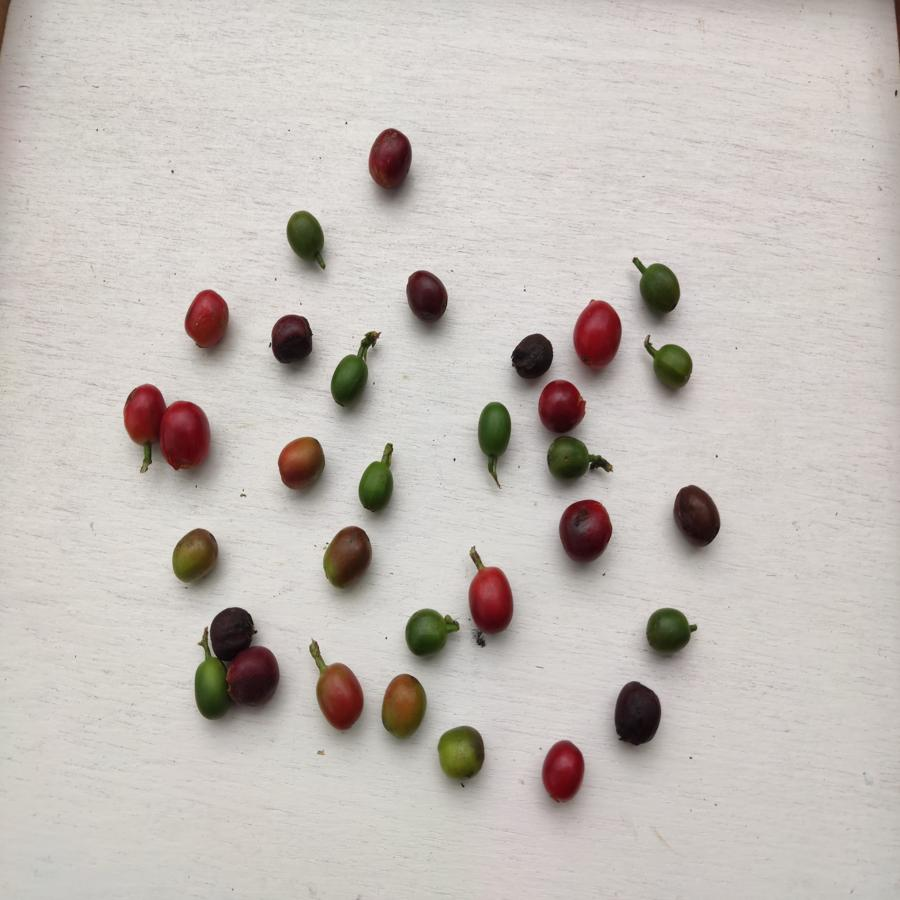Inmaduro: (435, 724, 488, 781), (634, 260, 682, 314), (402, 606, 450, 659), (646, 602, 692, 657), (285, 208, 329, 265), (329, 349, 369, 410), (192, 657, 231, 719), (651, 339, 694, 394), (356, 458, 396, 516), (545, 434, 590, 483), (477, 399, 512, 459)
Maduro: (312, 661, 369, 732), (574, 298, 625, 372), (161, 401, 211, 472), (540, 733, 587, 807), (467, 564, 516, 634), (181, 285, 233, 350), (120, 382, 165, 453), (536, 378, 589, 432)
Pinton: (379, 670, 429, 741), (322, 523, 375, 589), (171, 525, 221, 589), (275, 434, 329, 491)
Sobremaduro: (556, 497, 614, 563), (225, 644, 282, 708), (611, 676, 663, 746), (365, 126, 416, 191), (669, 481, 720, 546), (209, 606, 259, 659), (269, 314, 316, 364), (405, 269, 449, 321), (511, 329, 556, 379)
